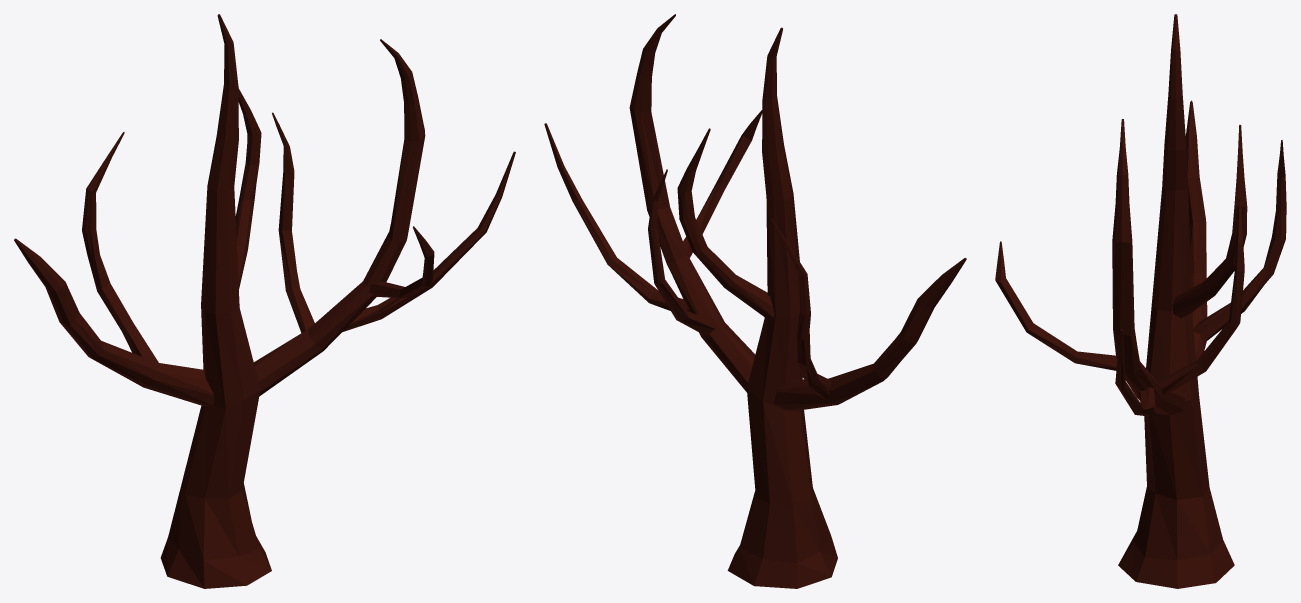
Rendered from Trunk_3.obj.
The picture shows the model from 3 angles, left to right: view 1: azimuth 30°, elevation 25°; view 2: azimuth 150°, elevation 25°; view 3: azimuth 270°, elevation 25°; orthographic projection. The views are drawn at different scales.
Visible parts, largest first — view 1: Trunk.3; view 2: Trunk.3; view 3: Trunk.3.
Boxes of the visible parts, bbox=[...] form: Trunk.3: bbox=[14, 14, 515, 588]; Trunk.3: bbox=[544, 14, 966, 588]; Trunk.3: bbox=[995, 14, 1286, 588].
Size of the model in its own units: 5.96 by 6.71 by 3.21.
